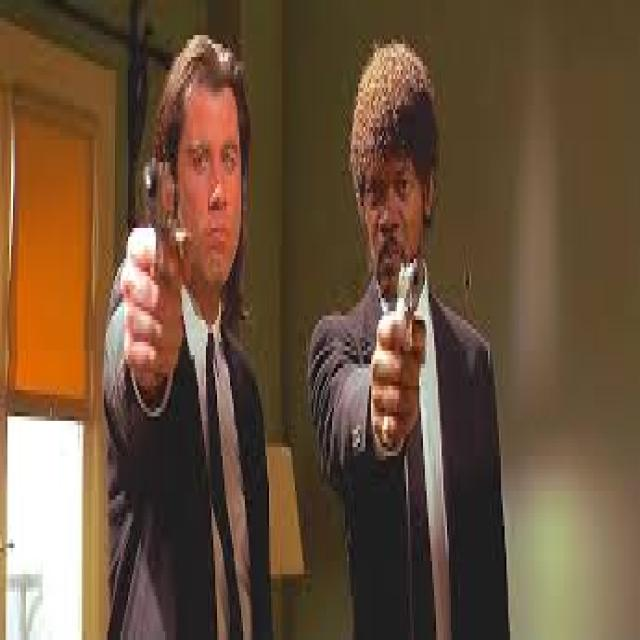gun: (130, 125, 201, 358), (358, 222, 438, 372)
